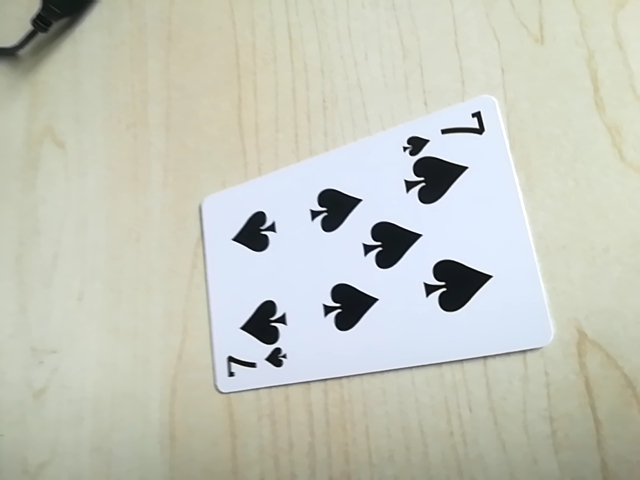ht 7: (397, 110, 495, 152), (216, 346, 294, 385)
